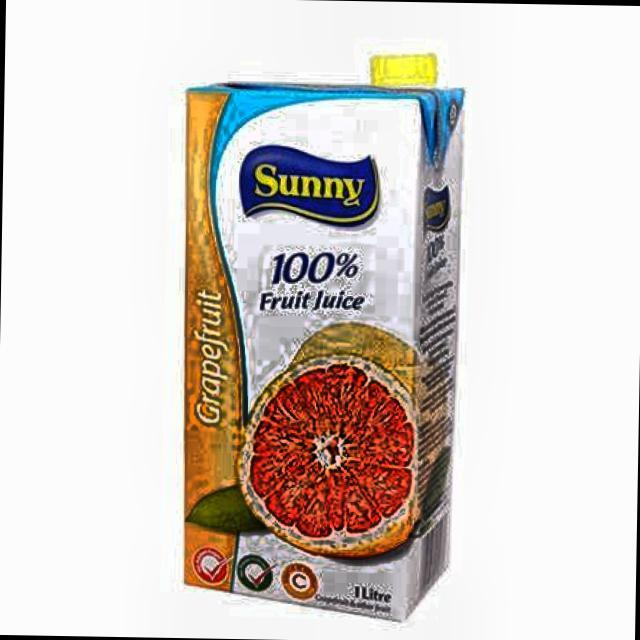cardboard: (174, 58, 465, 622)
